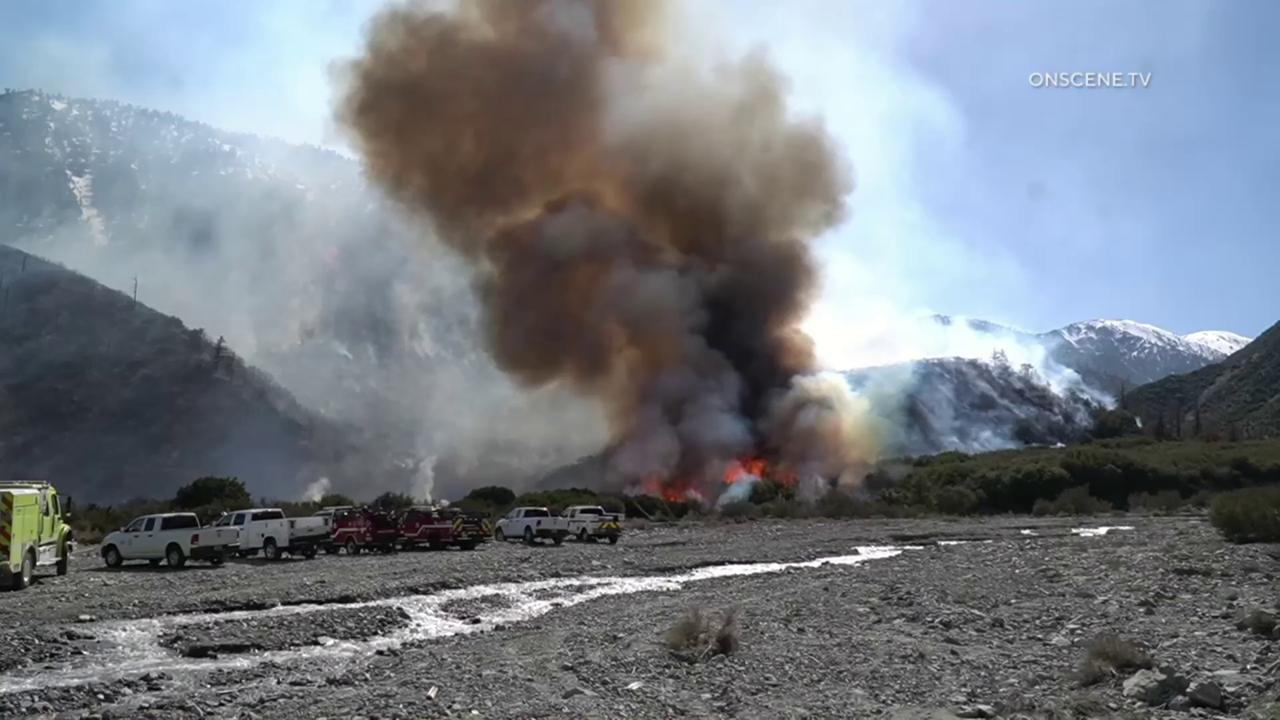fire: (724, 457, 764, 484), (663, 488, 683, 502)
smoke: (0, 0, 1120, 510)
